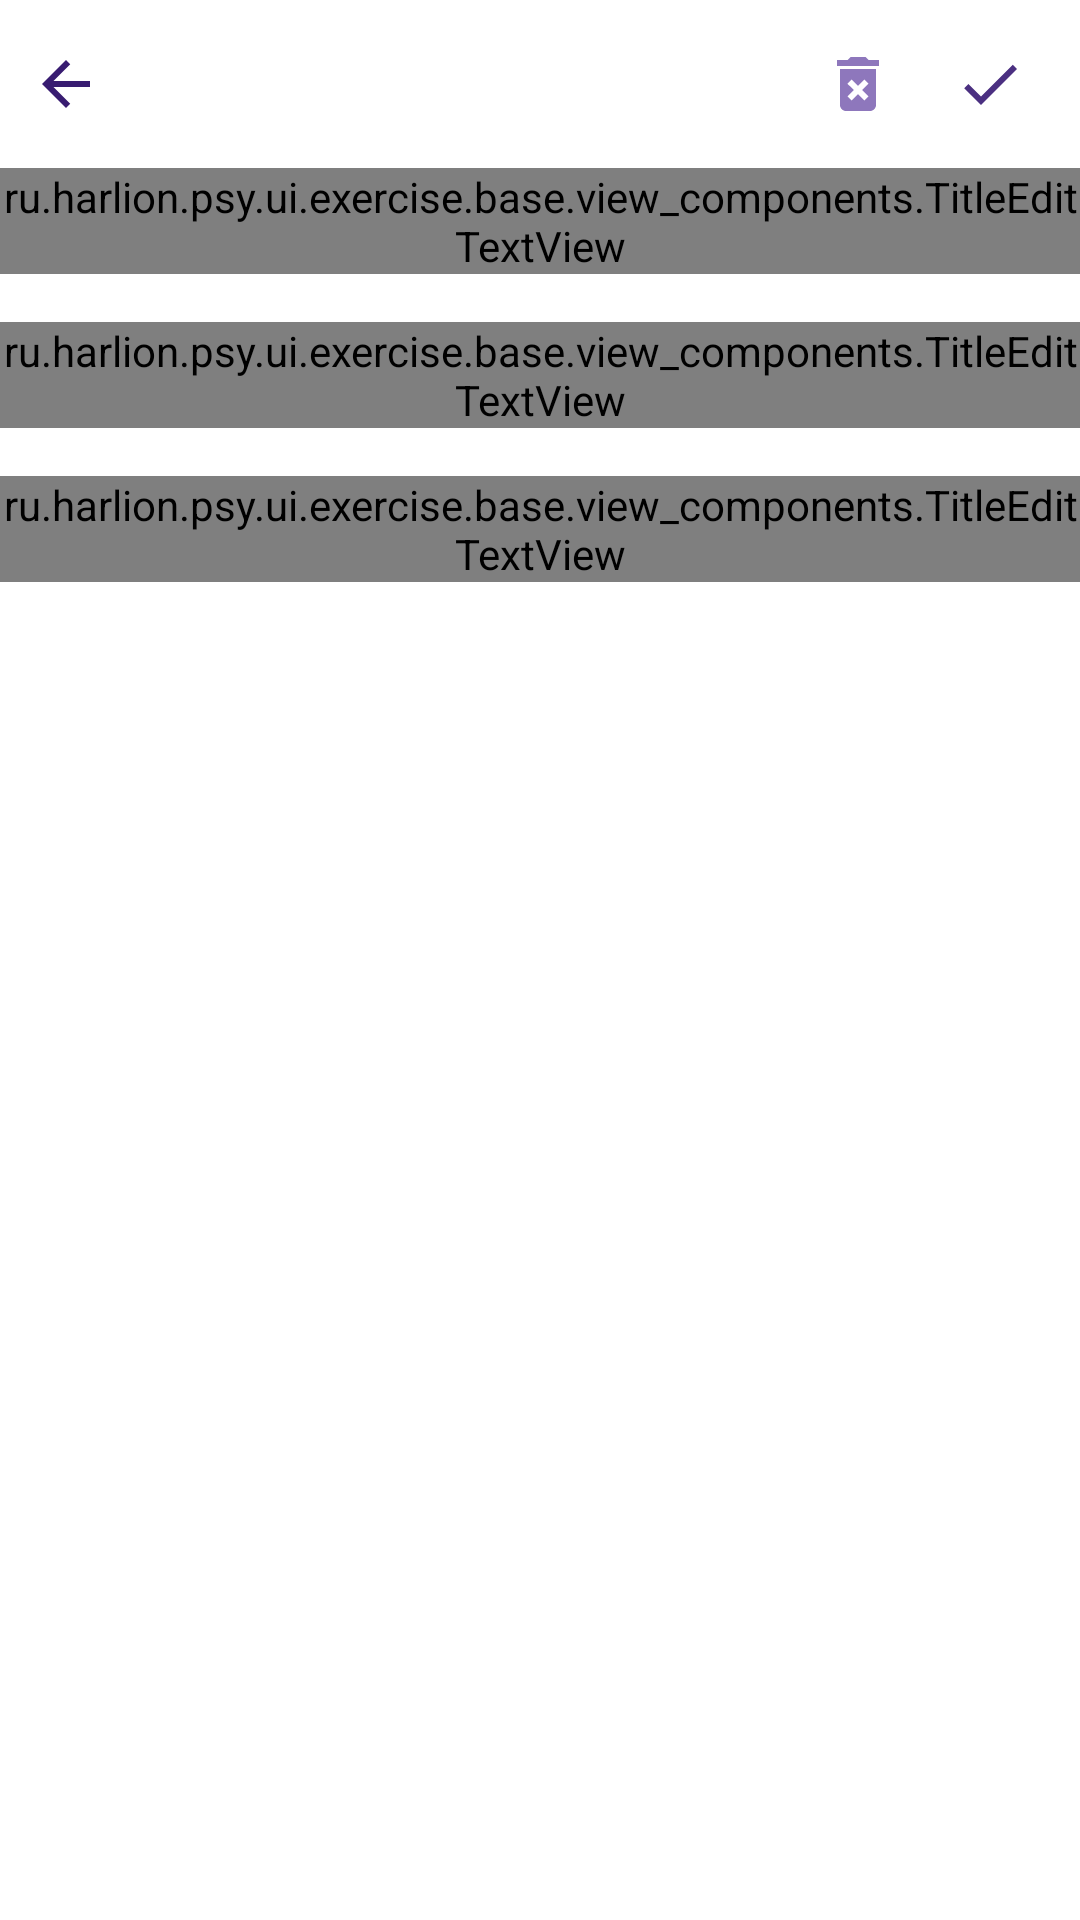

Point at icon controls on the screen. Image size 1080 x 1920, points as [x,y].
arrow back: [66,84]
delete: [858,84]
done: [990,85]
